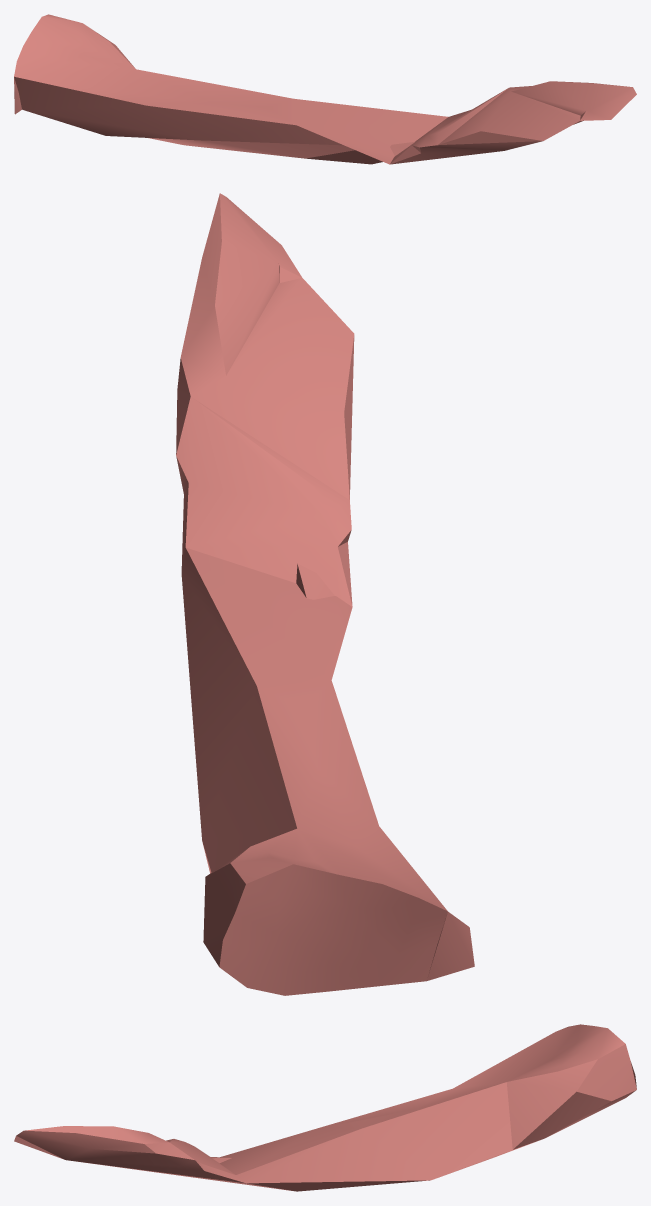
File: fma47307_mm1734.glb
The picture shows the model from 3 angles, top to bottom: view 1: azimuth 30°, elevation 25°; view 2: azimuth 150°, elevation 25°; view 3: azimuth 270°, elevation 25°; orthographic projection. The views are drawn at different scales.
Visible parts, largest first — view 1: FMA47307_MM1734; view 2: FMA47307_MM1734; view 3: FMA47307_MM1734.
Boxes of the visible parts, box(x1,y1,x2,y2) form: FMA47307_MM1734: box(14, 14, 636, 164); FMA47307_MM1734: box(176, 193, 474, 995); FMA47307_MM1734: box(14, 1024, 636, 1191).
Bounding box in the file's own units: 0.0144 × 0.00534 × 0.0198.
